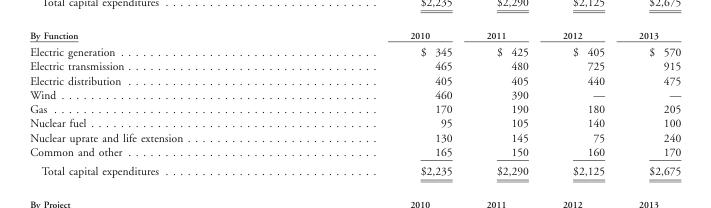table: (29, 29, 680, 177)
table column: (29, 29, 295, 177), (295, 29, 468, 177), (544, 29, 621, 177), (468, 29, 544, 177), (621, 29, 680, 177)
table column header: (29, 29, 680, 42)
table row: (29, 42, 680, 59), (29, 144, 680, 161), (29, 161, 680, 177), (29, 115, 680, 130), (29, 59, 680, 73), (29, 73, 680, 87), (29, 87, 680, 101), (29, 101, 680, 115), (29, 130, 680, 144), (29, 29, 680, 42)
